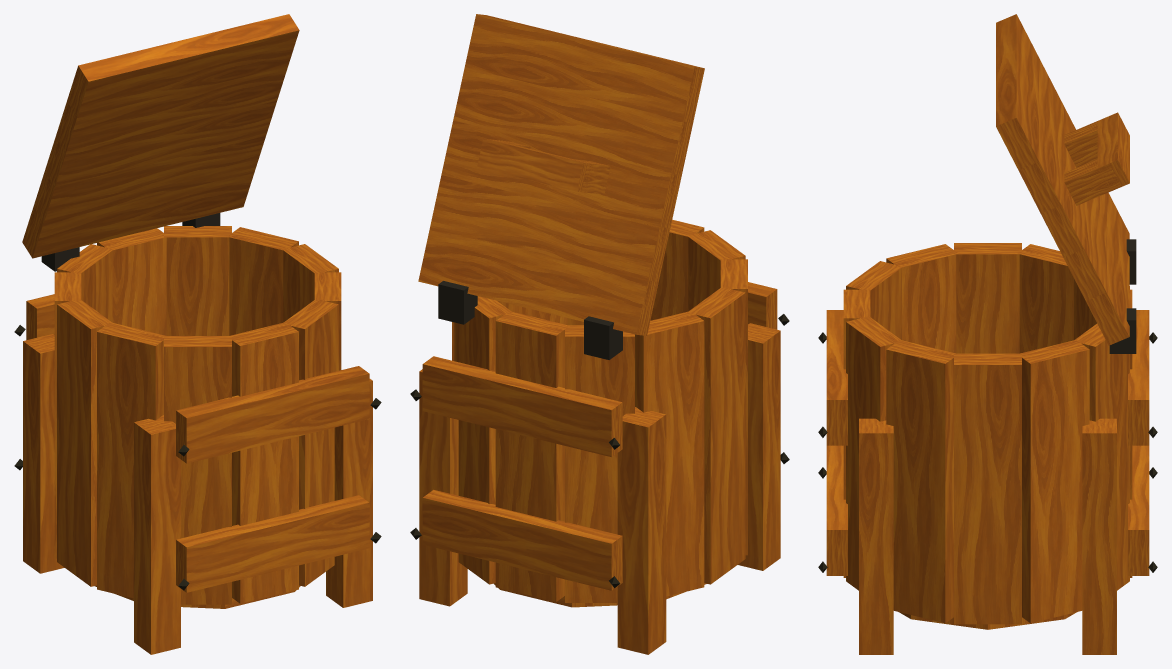
Rendered from compost-barrel.obj.
3 renders of one model, left to right at view 1: azimuth 30°, elevation 25°; view 2: azimuth 150°, elevation 25°; view 3: azimuth 270°, elevation 25°, orthographic. The views are drawn at different scales.
Parts seen in each view (by area): view 1: compost-barrel; view 2: compost-barrel; view 3: compost-barrel.
Part boxes in pixels (<box>): compost-barrel: <box>14,14,381,654</box>; compost-barrel: <box>410,14,789,654</box>; compost-barrel: <box>818,14,1157,654</box>.
Size of the model in its own units: 0.705 by 1.44 by 0.8304.
2 materials, 2 textured.
